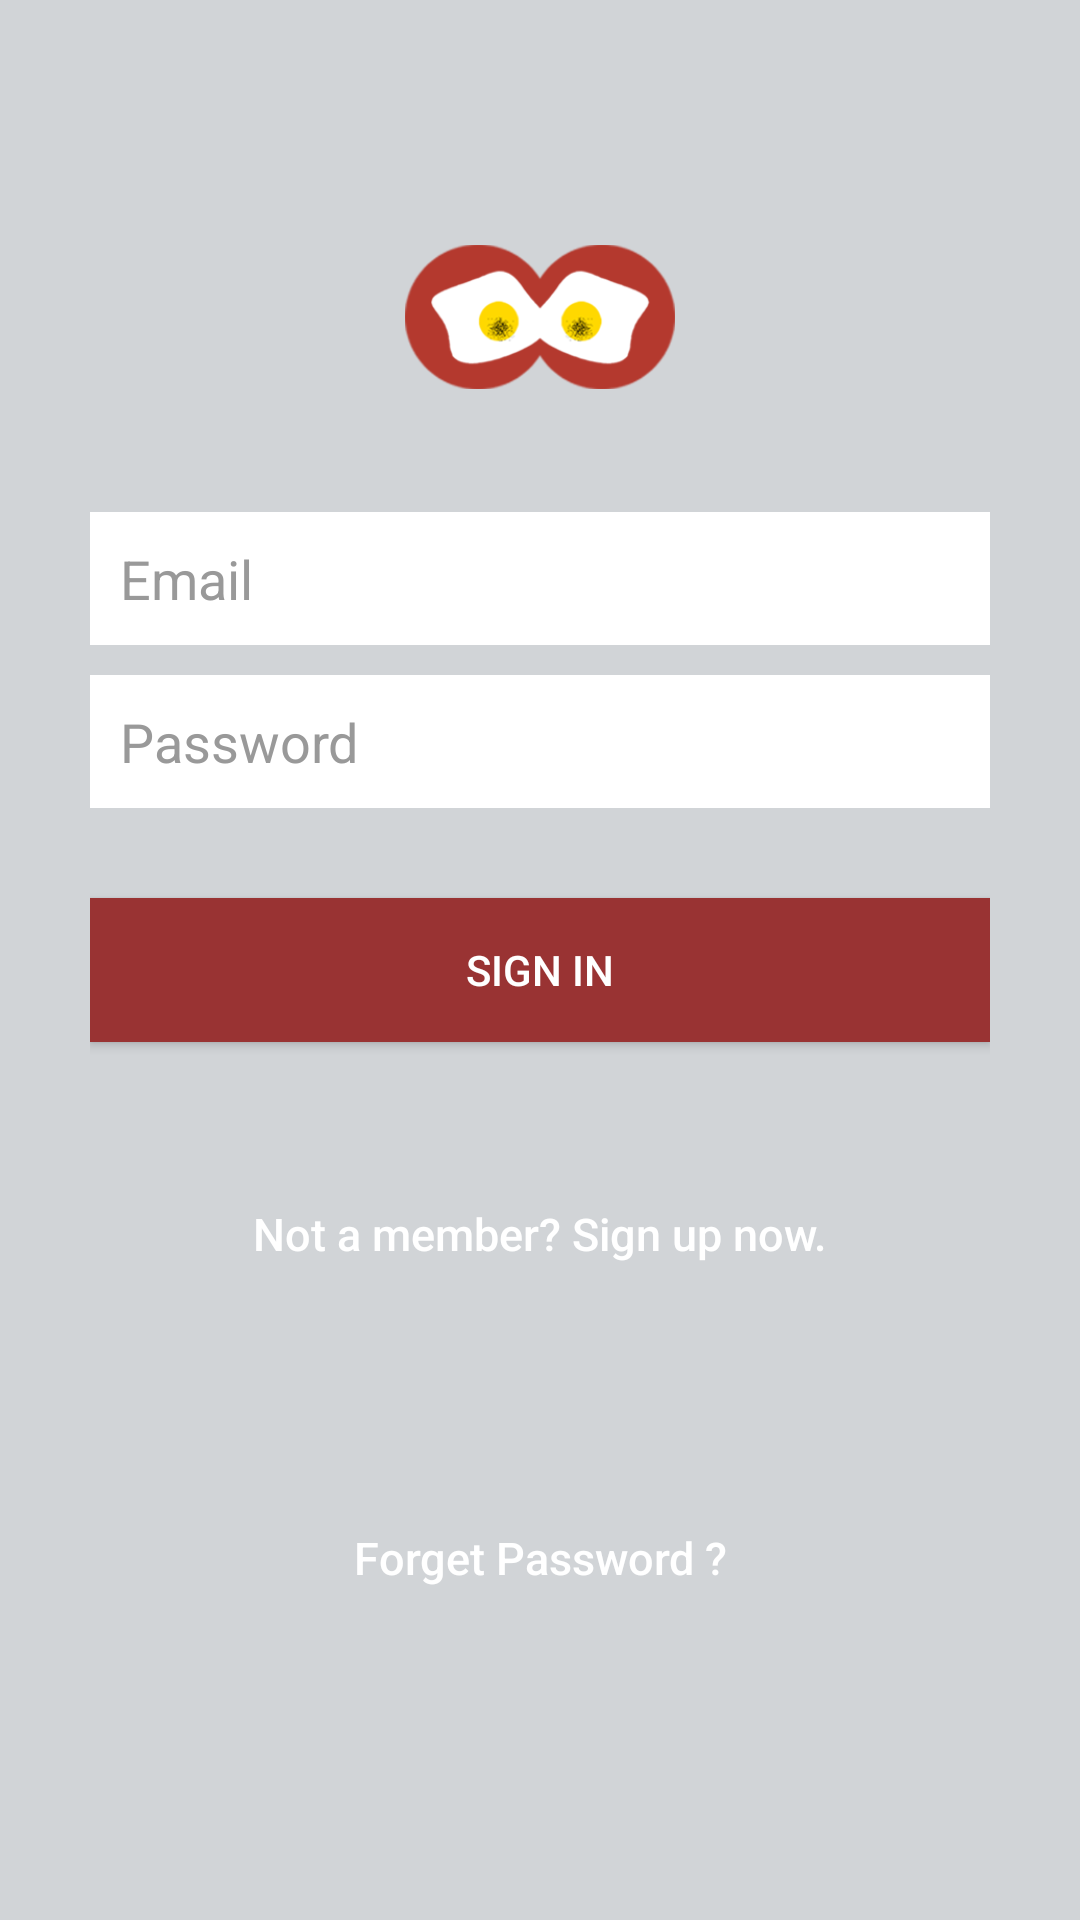

Screen size 1080*1920. Icon name, then its center in pixels as (x=x, y=y):
eyes: (x=540, y=317)
